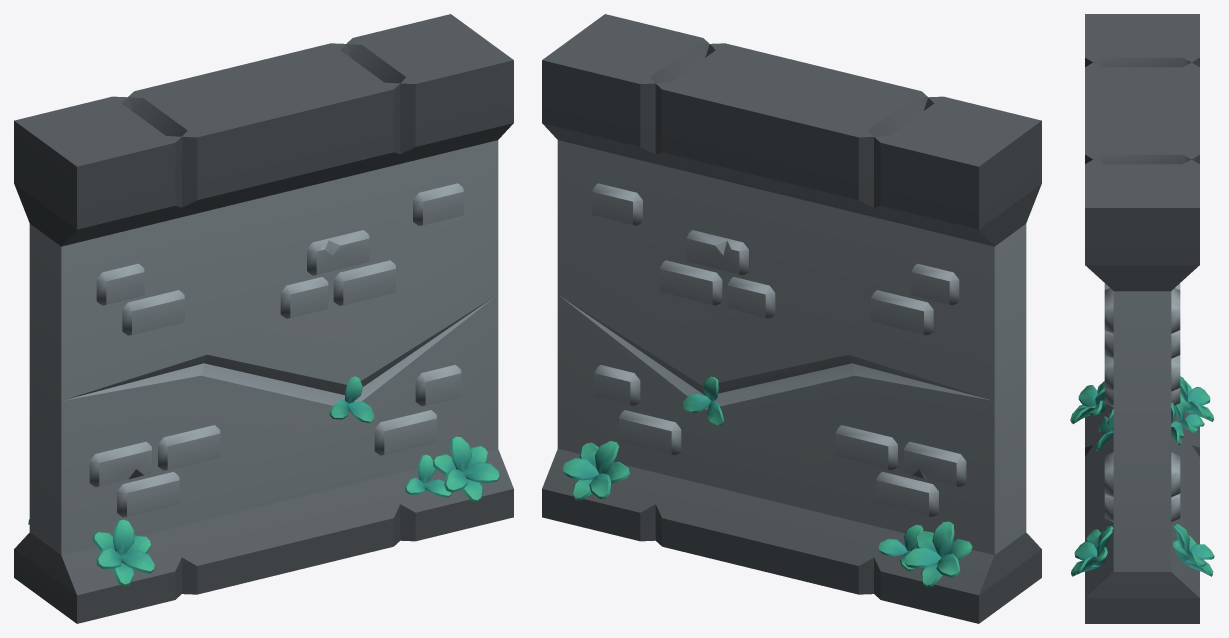
File: wall_cracked.glb
3 renders of one model, left to right at view 1: azimuth 30°, elevation 25°; view 2: azimuth 150°, elevation 25°; view 3: azimuth 270°, elevation 25°, orthographic. The views are drawn at different scales.
Visible parts, largest first — view 1: wall_cracked.001; view 2: wall_cracked.001; view 3: wall_cracked.001.
Boxes of the visible parts, x1,y1,x2,y2 form: wall_cracked.001: [14, 14, 513, 623]; wall_cracked.001: [542, 14, 1041, 623]; wall_cracked.001: [1070, 14, 1214, 623].
Size of the model in its own units: 2 by 2 by 0.6297.
1 material, 1 textured.
